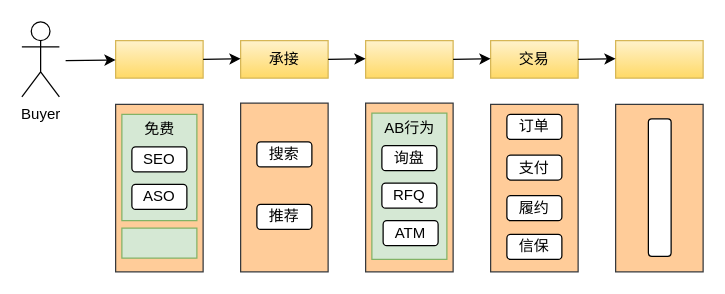
Some shapes in this 725 by 294 pixel diagram are drawn without their labels. Here are the shapes that lost their labels. From the top down, the box of each, then its label:
(114, 39, 203, 78): 引流
(364, 39, 453, 78): 转化
(614, 39, 703, 78): 物流
(647, 118, 671, 256): 跨境供应链服务
(121, 227, 197, 258): 付费
